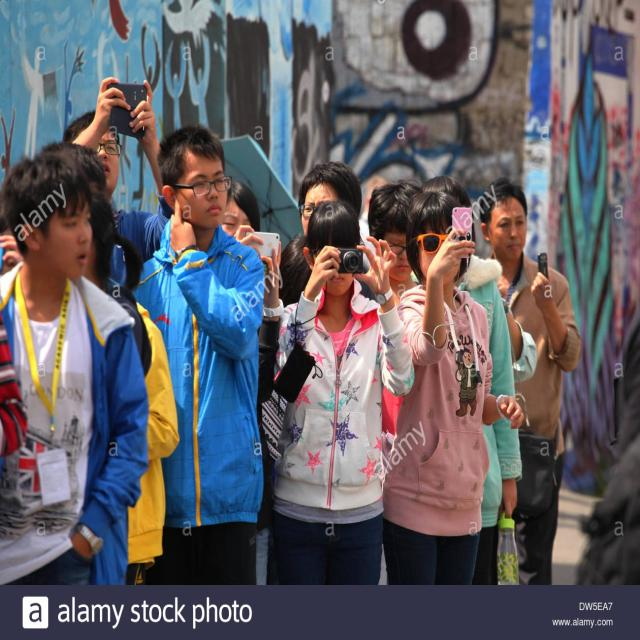body: (0, 150, 151, 584), (130, 120, 270, 587), (379, 190, 527, 586), (269, 197, 417, 585), (474, 174, 581, 585), (423, 173, 526, 589), (82, 191, 180, 585), (263, 226, 356, 586), (220, 179, 286, 585), (60, 75, 171, 291), (349, 143, 451, 298), (368, 178, 434, 310), (296, 160, 363, 240), (32, 137, 108, 205)
